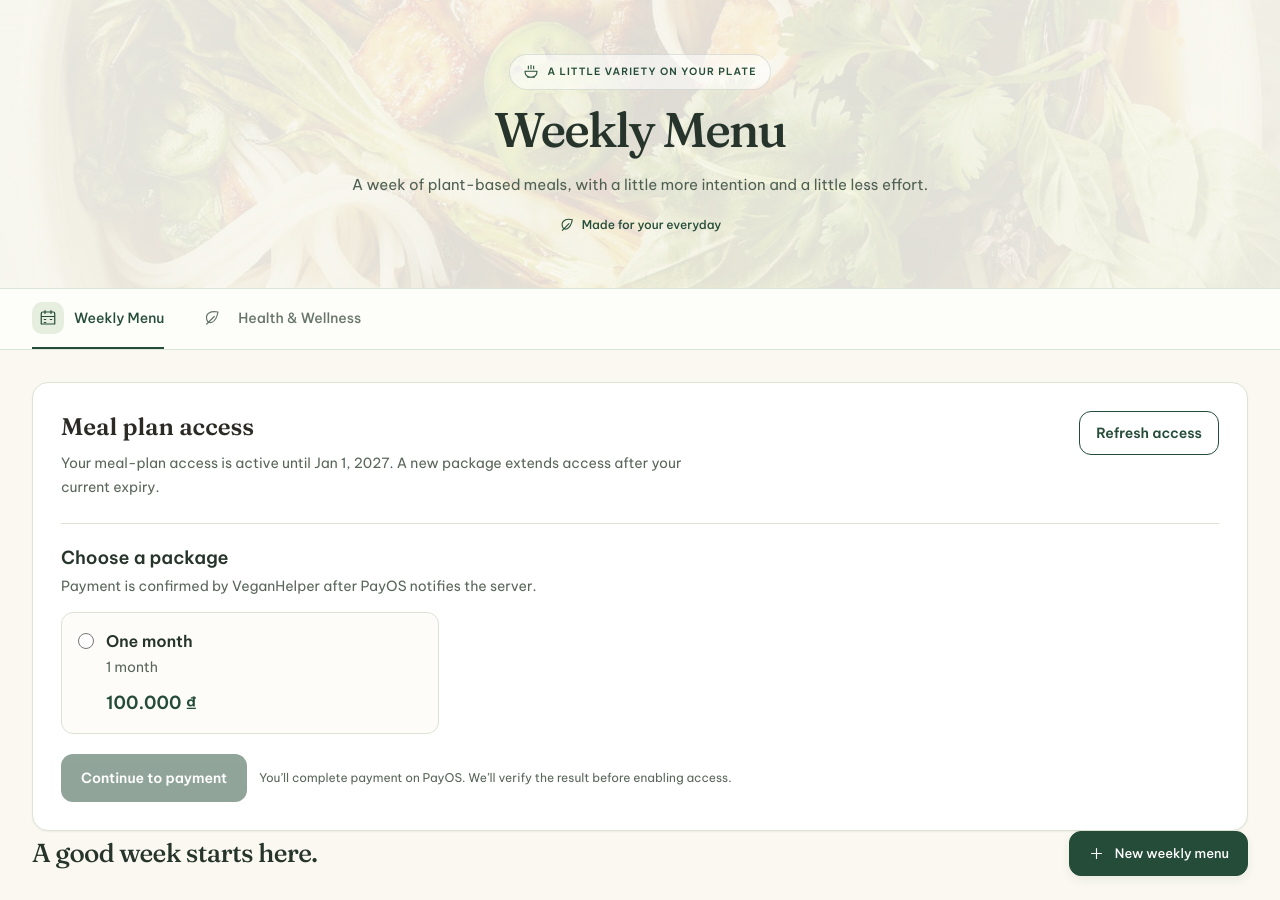
Test: opens goal setup without submitting before explicit eligibility and safety review
The width and height of the screenshot is (1280, 900).
Click the button "New weekly menu" at (1158, 853), box [1069,831,1248,876]
(page scrolled)
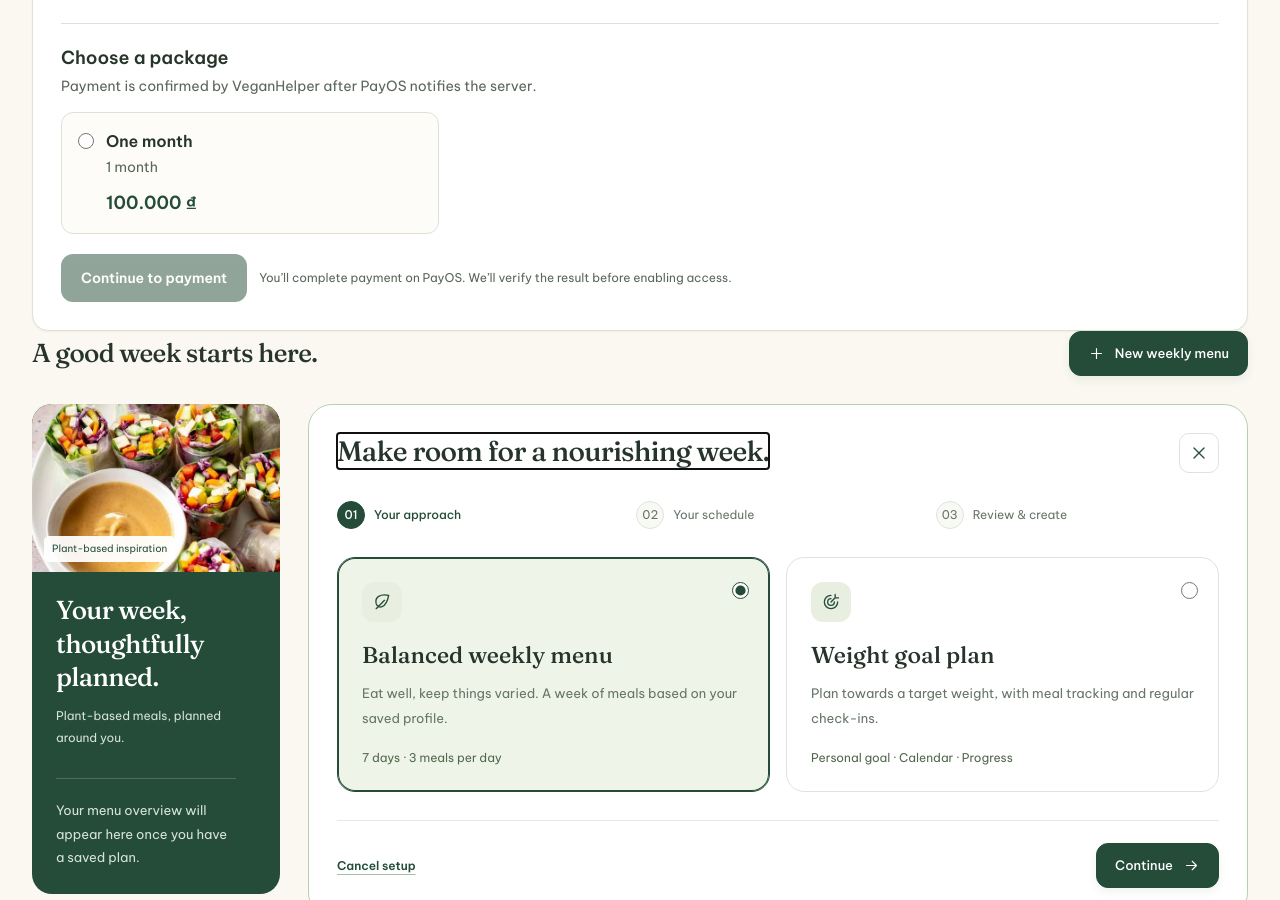
Click the 3rd radio button at (1190, 590), box [1181,582,1198,599]
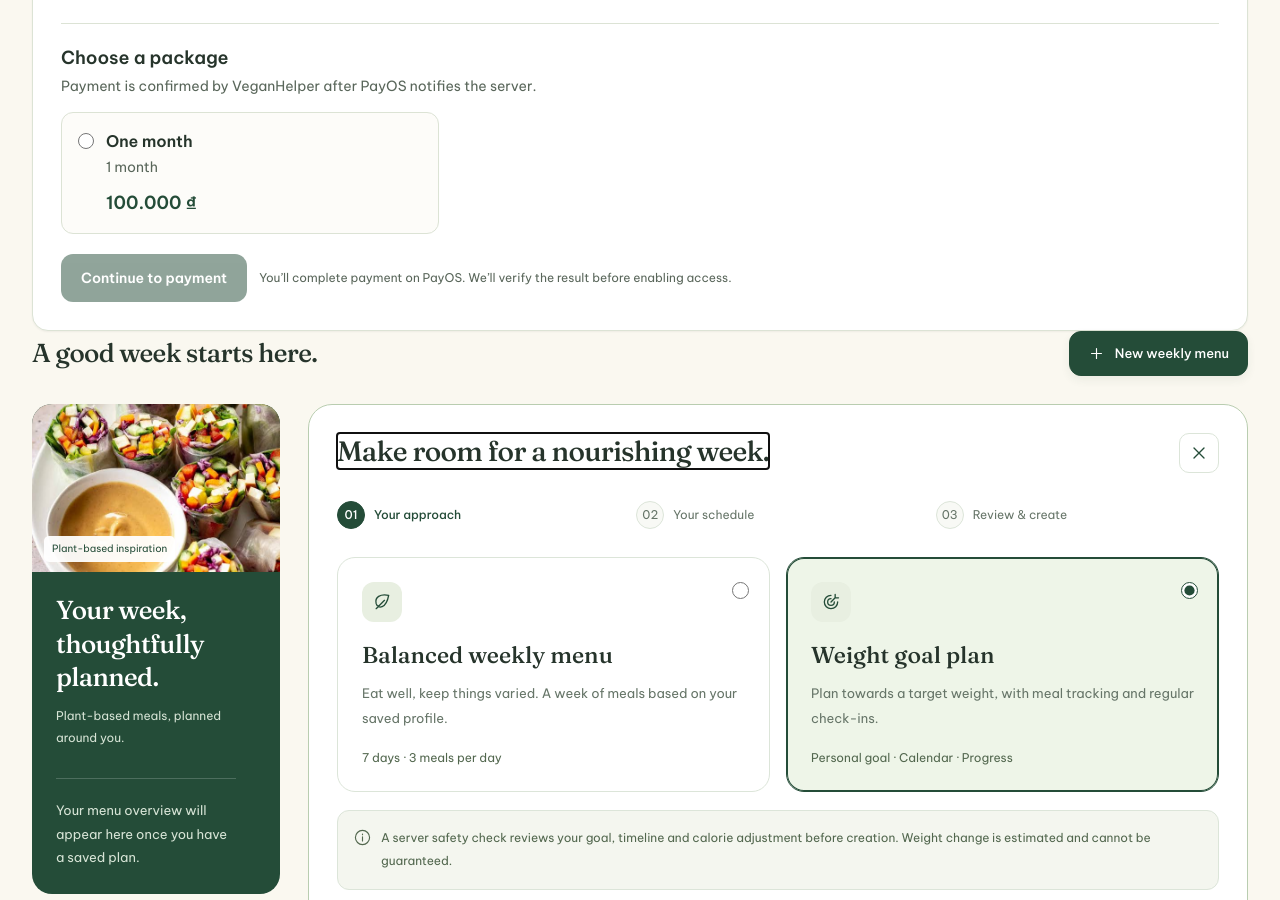
Check: the text "Weight goal plan" is shown, box [811,641,994,669]
Check: the text "safety check" is shown, box [381,830,1151,868]
